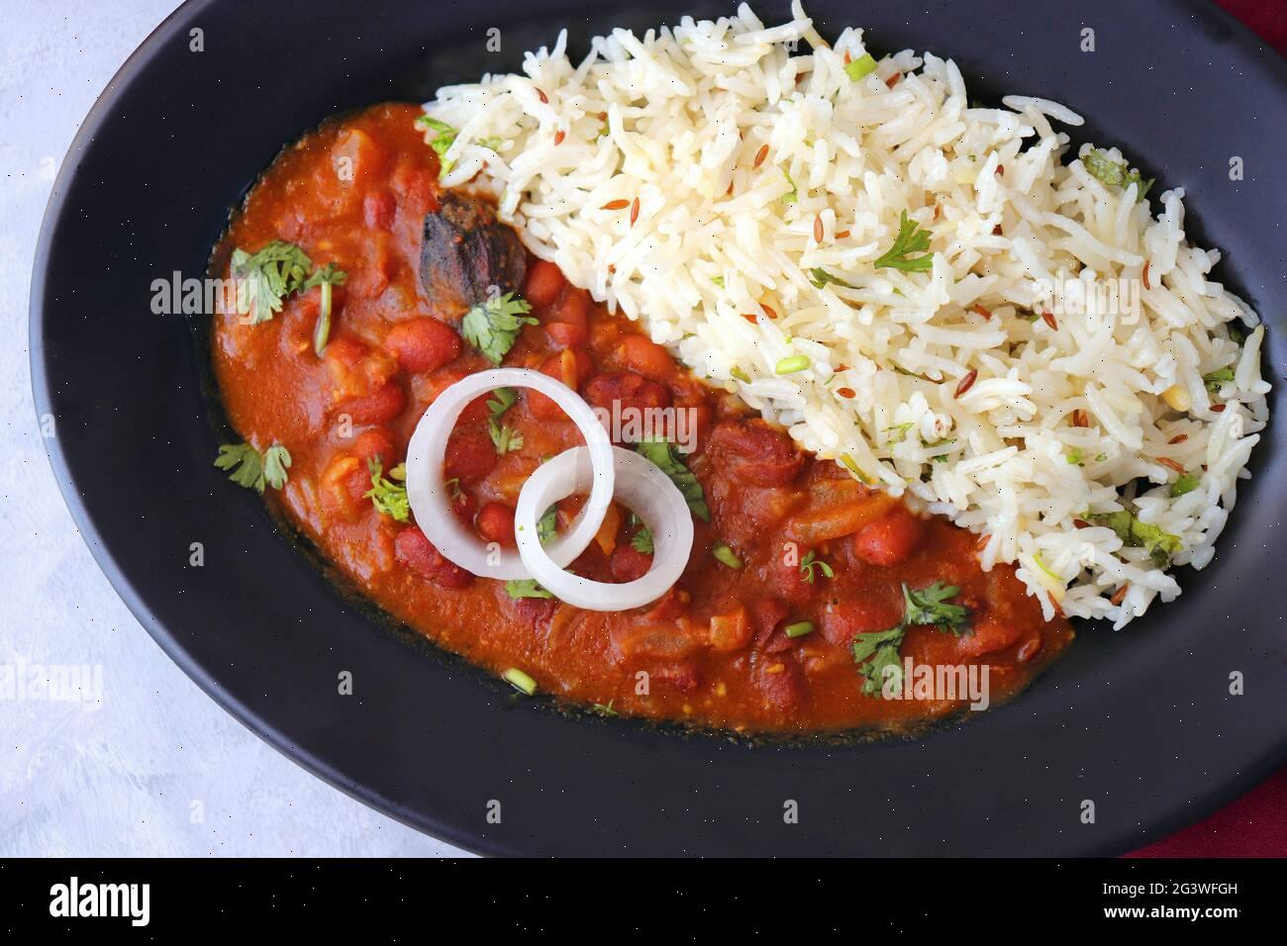rajma: (225, 210, 606, 792)
rice: (621, 57, 1275, 411)
